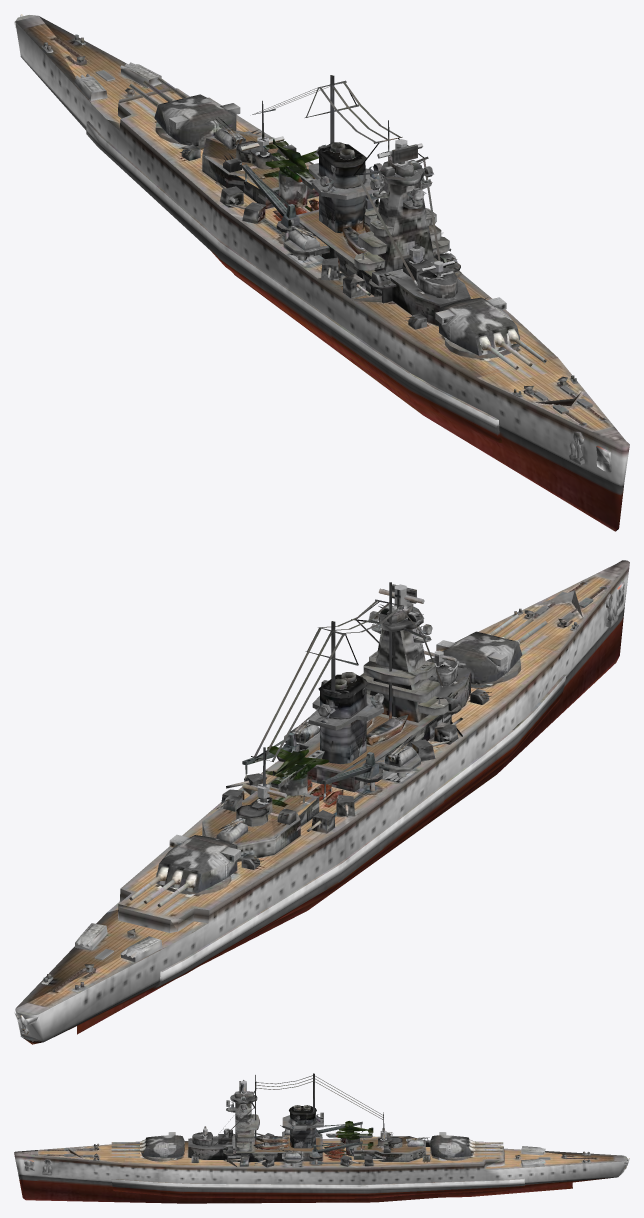
Rendered from realistic-by.2e298fc5a522.cruiser.glb.
3 renders of one model, top to bottom at view 1: azimuth 30°, elevation 25°; view 2: azimuth 150°, elevation 25°; view 3: azimuth 270°, elevation 25°, orthographic. The views are drawn at different scales.
Parts seen in each view (by area): view 1: cruiser; view 2: cruiser; view 3: cruiser.
Part boxes in pixels (box(x1,y1,x2,y2)): cruiser: box(14, 14, 629, 531); cruiser: box(14, 560, 629, 1044); cruiser: box(14, 1073, 629, 1203).
Size of the model in its own units: 22.35 by 42.1 by 186.
Materials: 2 (2 with a texture image).
